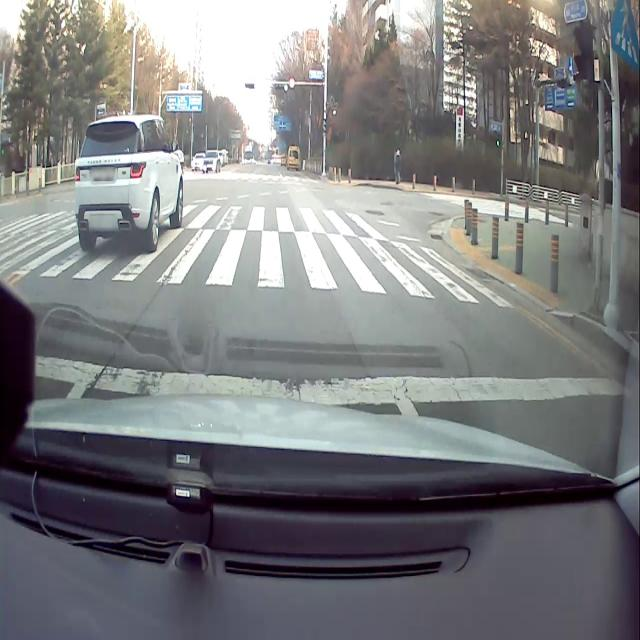Green Light: (283, 84, 289, 92), (254, 82, 258, 91)
